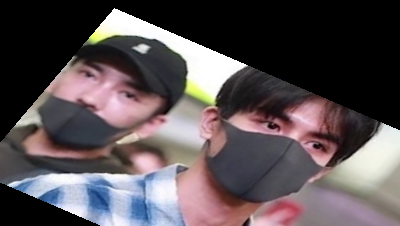mask_weared_incorrect: (29, 29, 188, 179)
with_mask: (198, 43, 388, 220)
